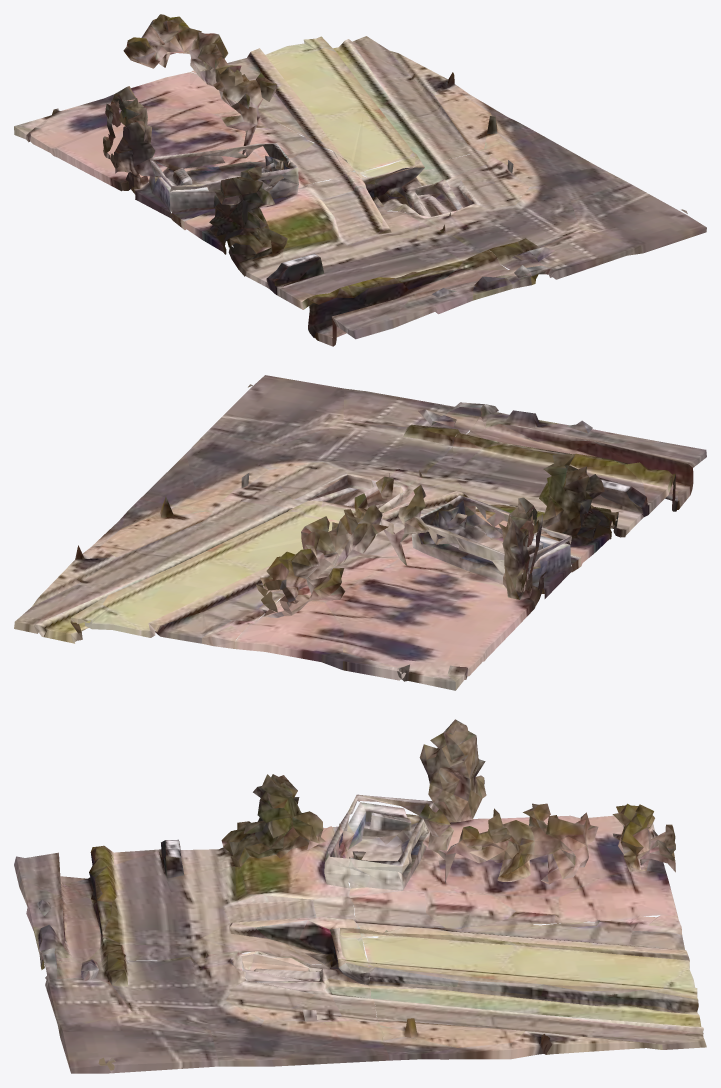
3 renders of one model, top to bottom at view 1: azimuth 30°, elevation 25°; view 2: azimuth 150°, elevation 25°; view 3: azimuth 270°, elevation 25°, orthographic. The views are drawn at different scales.
Visible parts, largest first — view 1: Mesh_0; view 2: Mesh_0; view 3: Mesh_0.
Boxes of the visible parts, x1,y1,x2,y2 form: Mesh_0: [14, 14, 706, 346]; Mesh_0: [14, 375, 706, 690]; Mesh_0: [14, 719, 706, 1073].
Bounding box in the file's own units: 66.57 × 20.33 × 82.66.
1 material, 1 textured.
